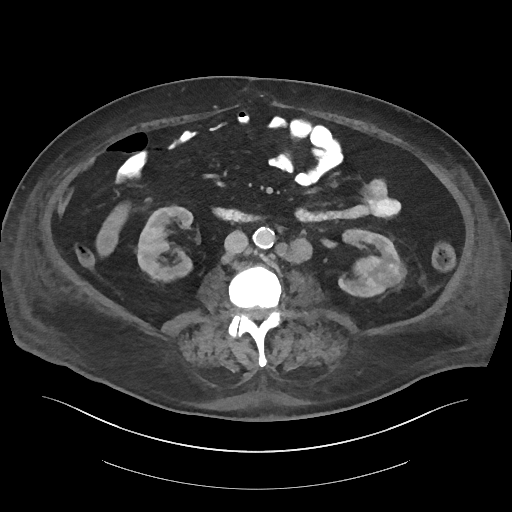Lesion: (368, 257, 408, 293)
